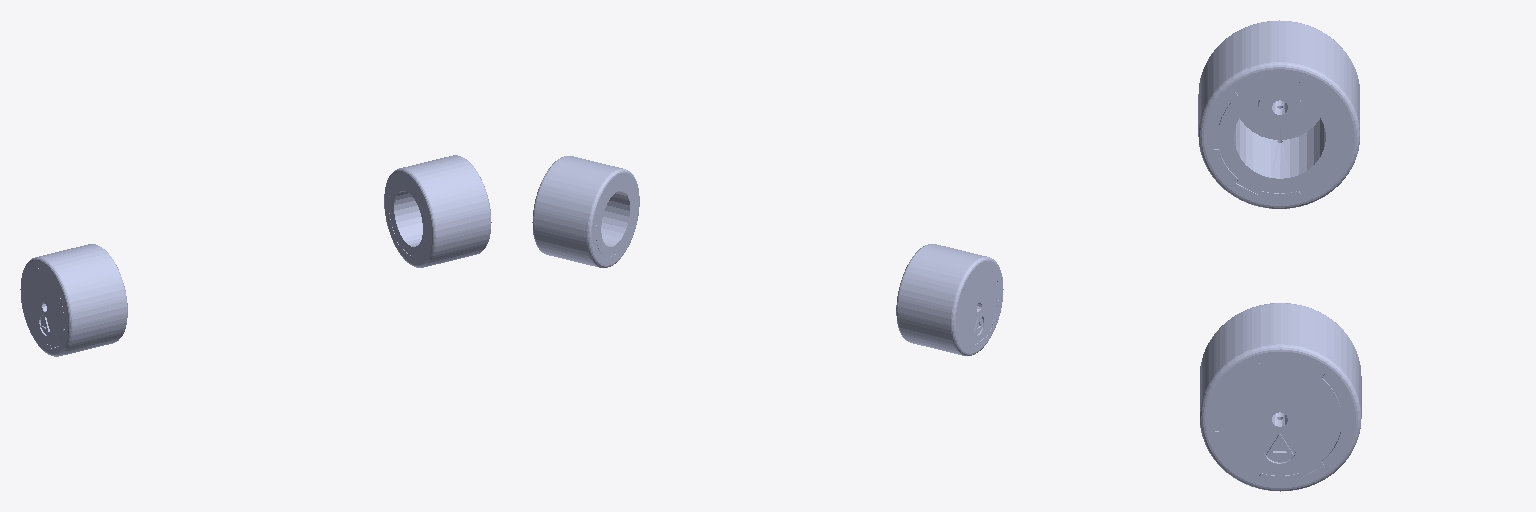
The robot description file, URDF, robot "RMD":
<?xml version="1.0" encoding="utf-8"?>
<!-- This URDF was automatically created by SolidWorks to URDF Exporter! Originally created by [author] ([email redacted]) 
     Commit Version: 1.6.0-4-g7f85cfe  Build Version: 1.6.7995.38578
     For more information, please see http://wiki.ros.org/sw_urdf_exporter -->
<robot
  name="RMD">
  <link
    name="base_link">
    <inertial>
      <!--origin
        xyz="0.00220064762445978 0.00632001835962821 0.0613684966384051" No funciona, se debe intercambiar el eje y por z -->
      <origin
        xyz="0.00220064762445978 -0.0613684966384051 0.00632001835962821"
        rpy="1.5708 0 0" />
      <mass
        value="0.187551651600364" />
      <inertia
        ixx="0.000236010414569773"
        ixy="-1.68515145672754E-09"
        ixz="1.38056969191708E-09"
        iyy="0.000507898725164958"
        iyz="-1.00879770741965E-05"
        izz="0.000308347840630502" />

    </inertial>
    <visual>
      <origin
        xyz="0 0 0"
        rpy="0 0 0" />
      <geometry>
        <mesh
          filename="package://RMD/meshes/base_link.STL" />
      </geometry>
      <material
        name="">
        <color
          rgba="0.752941176470588 0.752941176470588 0.752941176470588 1" />
          <texture
          filename="package://RMD/textures/textura.jpg" />
      </material>
    </visual>
    <collision>
      <origin
        xyz="0 0 0"
        rpy="0 0 0" />
      <geometry>
        <mesh
          filename="package://RMD/meshes/base_link.STL" />
      </geometry>
    </collision>
  </link>
  <link
    name="Rueda_Izq">
    <inertial>
      <origin
        xyz="1.9755E-05 -5.937E-05 0.010582"
        rpy="0 0 0" />
      <mass
        value="0.010874" />
      <inertia
        ixx="1.1208E-06"
        ixy="4.6507E-10"
        ixz="-7.7246E-10"
        iyy="1.1207E-06"
        iyz="-6.5341E-10"
        izz="1.5186E-06" />
    </inertial>
    <visual>
      <origin
        xyz="0 0 0"
        rpy="0 0 0" />
      <geometry>
        <mesh
          filename="package://RMD/meshes/Rueda_Izq.STL" />
      </geometry>
      <material
        name="">
        <color
          rgba="0.79216 0.81961 0.93333 1" />
      </material>
    </visual>
    <collision>
      <origin
        xyz="0 0 0"
        rpy="0 0 0" />
      <geometry>
        <mesh
          filename="package://RMD/meshes/Rueda_Izq.STL" />
      </geometry>
    </collision>
  </link>
  <joint
    name="Motor_Izq"
    type="continuous">
    <origin
      xyz="-0.049569 -0.10759 -0.0043137"
      rpy="1.5708 -0.86735 -1.5708" />
    <parent
      link="base_link" />
    <child
      link="Rueda_Izq" />
    <axis
      xyz="0 0 1" />
    <dynamics
      damping="0.0001"
      friction="0.1" />
  </joint>
  <link
    name="Rueda_Der">
    <inertial>
      <origin
        xyz="1.9755E-05 -5.937E-05 0.010582"
        rpy="0 0 0" />
      <mass
        value="0.010874" />
      <inertia
        ixx="1.1208E-06"
        ixy="4.6507E-10"
        ixz="-7.7246E-10"
        iyy="1.1207E-06"
        iyz="-6.5341E-10"
        izz="1.5186E-06" />
    </inertial>
    <visual>
      <origin
        xyz="0 0 0"
        rpy="0 0 0" />
      <geometry>
        <mesh
          filename="package://RMD/meshes/Rueda_Der.STL" />
      </geometry>
      <material
        name="">
        <color
          rgba="0.79216 0.81961 0.93333 1" />
        <texture
          filename="package://RMD/textures/textura.jpg" />
      </material>
    </visual>
    <collision>
      <origin
        xyz="0 0 0"
        rpy="0 0 0" />
      <geometry>
        <mesh
          filename="package://RMD/meshes/Rueda_Der.STL" />
      </geometry>
    </collision>
  </link>
  <joint
    name="Motor_Der"
    type="continuous">
    <origin
      xyz="0.053971 -0.1076 -0.0044387"
      rpy="1.5708 -0.86667 1.5708" />
    <parent
      link="base_link" />
    <child
      link="Rueda_Der" />
    <axis
      xyz="0 0 1" />
    <dynamics
      damping="0.0001"
      friction="0.01" />
  </joint>
</robot>

--- Render facts (derived) ---
Views: 3 orthographic renders of the robot side by side, from view 1: azimuth 30°, elevation 25°; view 2: azimuth 150°, elevation 25°; view 3: azimuth 270°, elevation 25°.
Robot: RMD — 3 links, 2 joints (2 continuous); root link base_link; default pose: all joints at 0.
Links seen in each view (by area): view 1: Rueda_Izq, Rueda_Der; view 2: Rueda_Izq, Rueda_Der; view 3: Rueda_Izq, Rueda_Der.
Boxes of the visible links, box(x1,y1,x2,y2) form: Rueda_Izq: box(20, 244, 127, 356); Rueda_Der: box(384, 155, 491, 267); Rueda_Izq: box(896, 244, 1003, 355); Rueda_Der: box(532, 156, 639, 267); Rueda_Izq: box(1198, 20, 1359, 208); Rueda_Der: box(1200, 303, 1361, 491).
Bounding box of the posed robot: 0.1435 × 0.0302 × 0.0301 m (x, y, z).
2 mesh visuals loaded from 3 distinct referenced files (2 binary STL); not drawn: 1 (reference not matched to a file when rendering).
